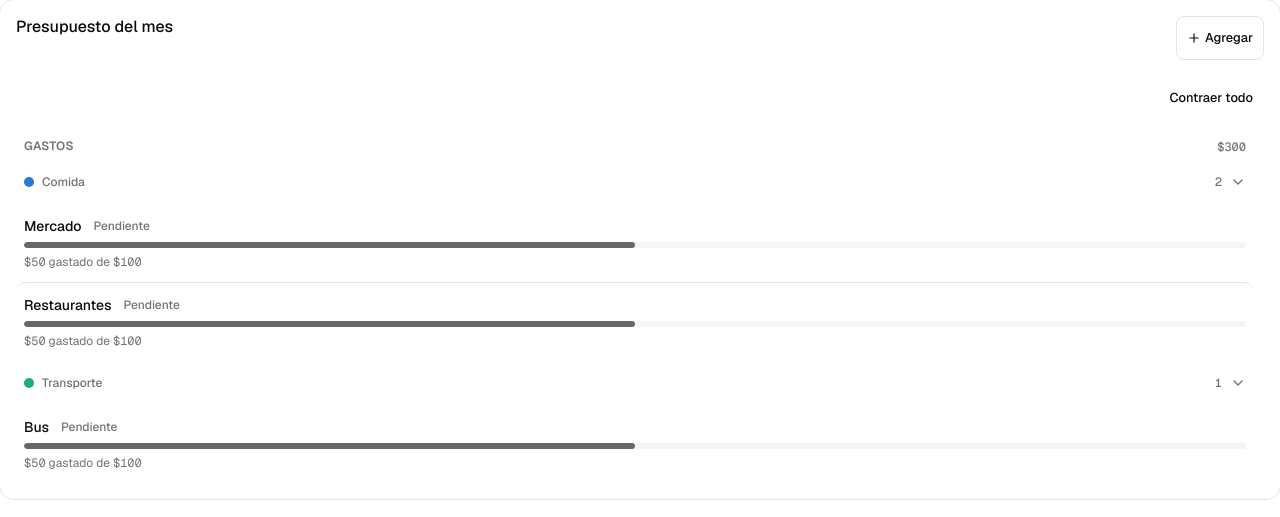
Test: PanelPresupuesto: contraer/desplegar todo › un solo botón alterna: 'Contraer todo' con algo abierto y 'Desplegar todo' con todo cerrado
Step 1. Click the button "Contraer todo" → (1211,98), box x1=1158 y1=76 x2=1264 y2=120
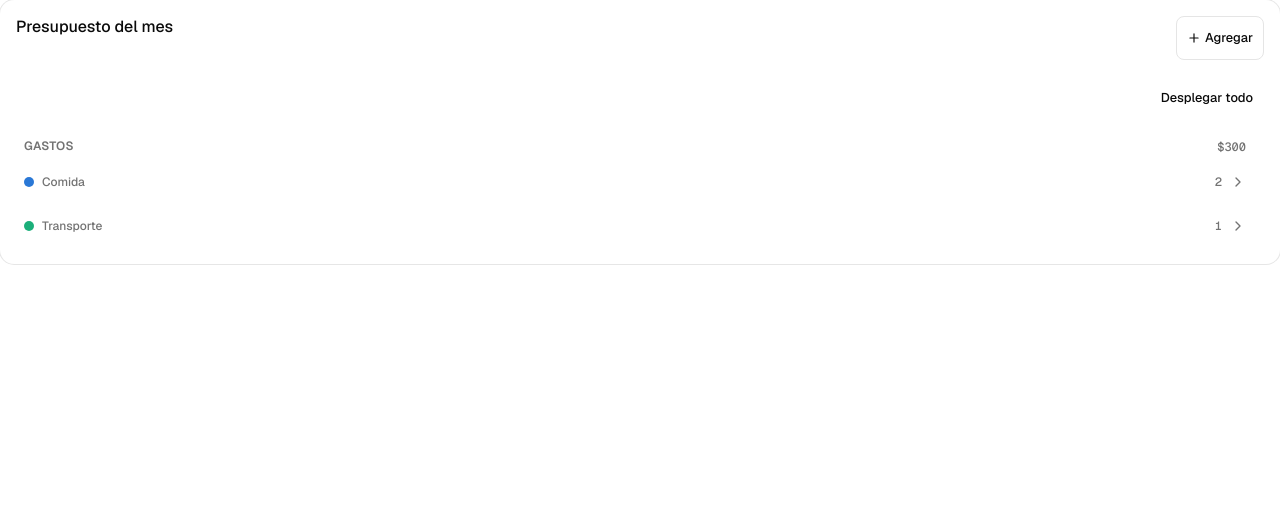
Expected: the button "Desplegar todo" is shown
Step 2. Click the button "Desplegar todo" → (1207,98), box x1=1150 y1=76 x2=1264 y2=120
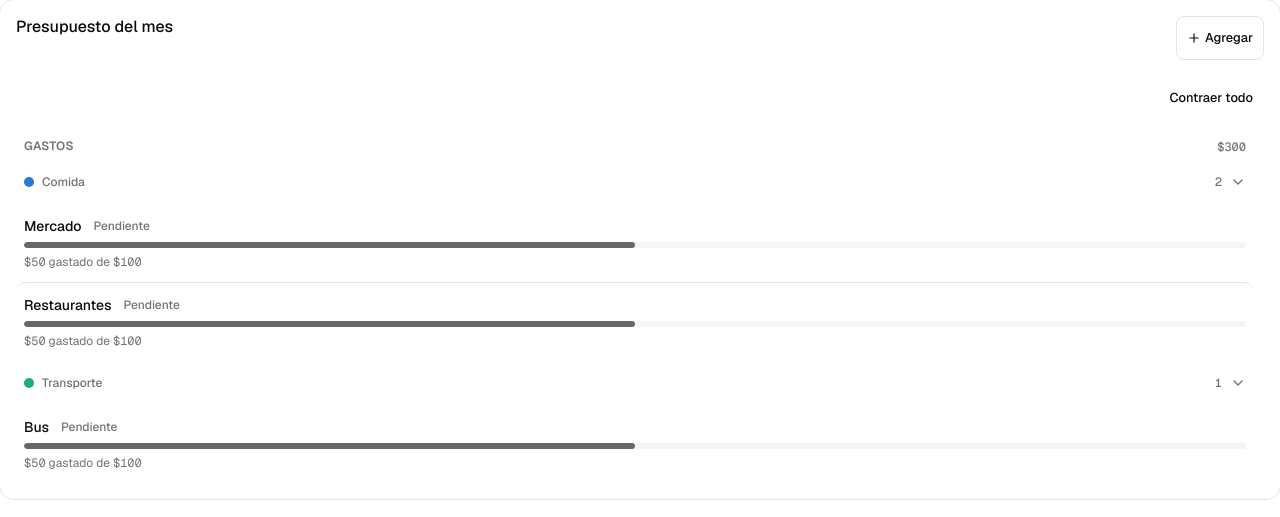
Expected: the button "Contraer todo" is shown, x1=1158 y1=76 x2=1264 y2=120
